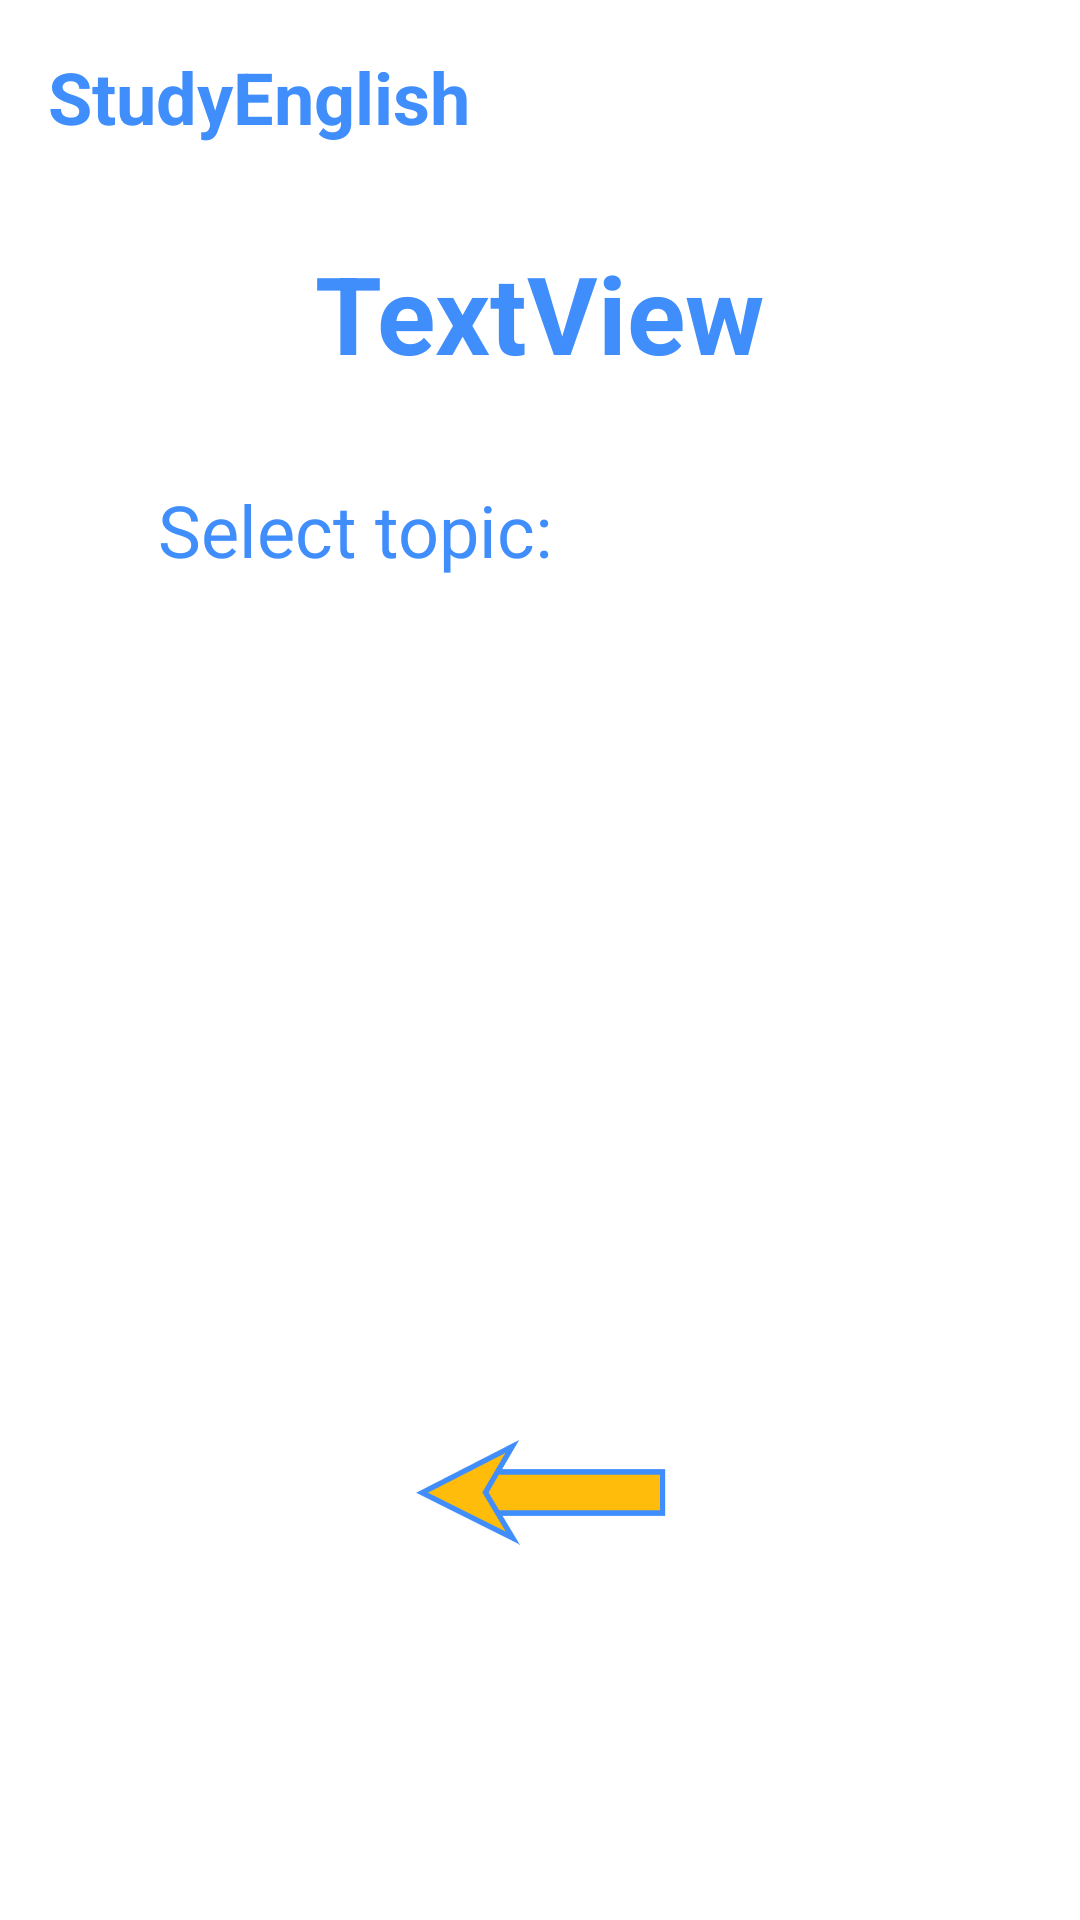

Where icons sit on this 1080px x 1920px app screen, as rect(x1, y1, x2, y2):
back: rect(416, 1440, 666, 1545)
